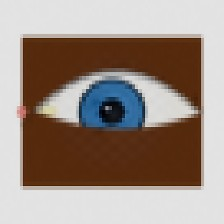pinguecula_lesion: (29, 96, 67, 126)
